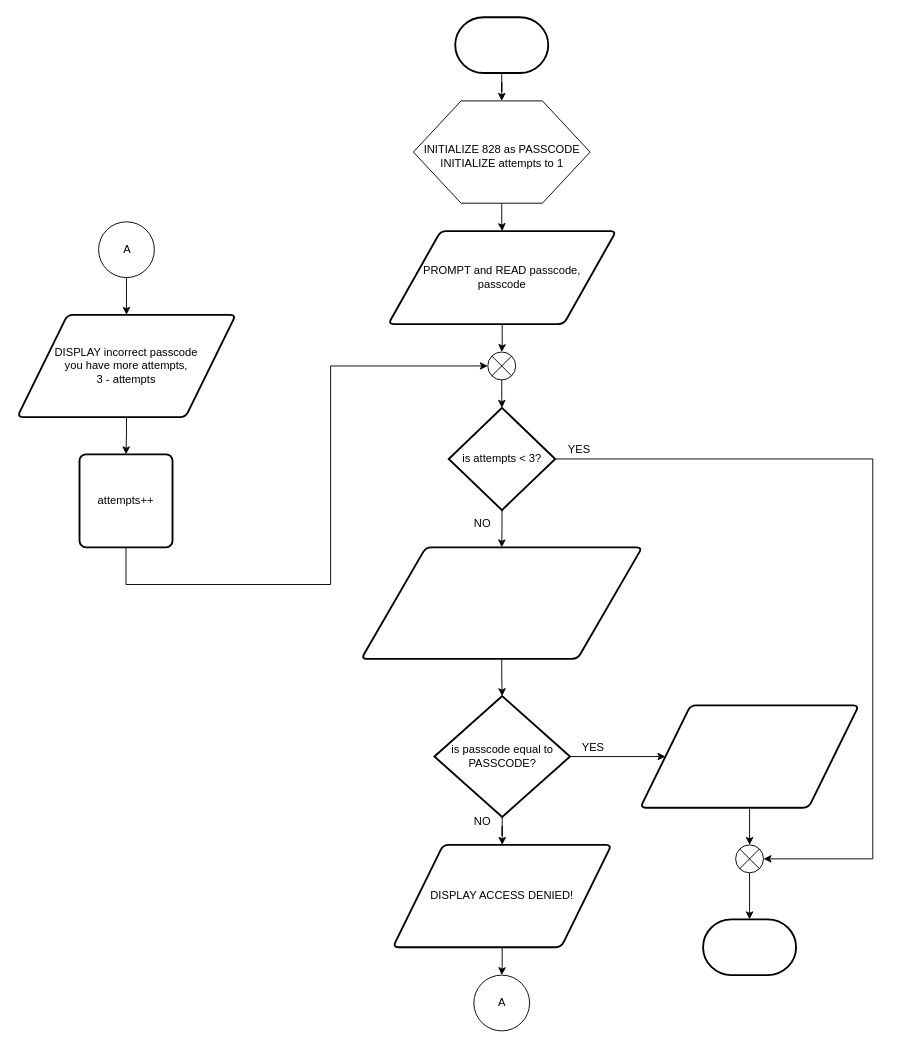
Some shapes in this 897 by 1047 pixel diagram are drawn without their labels. Here are the shapes that lost their labels. From the top down, the centre of each, then its label:
point 501,44: START
point 501,602: PROMPT and READ numeric passcode, passcode
point 749,756: DISPLAY ACCESS GRANTED!
point 749,947: END
